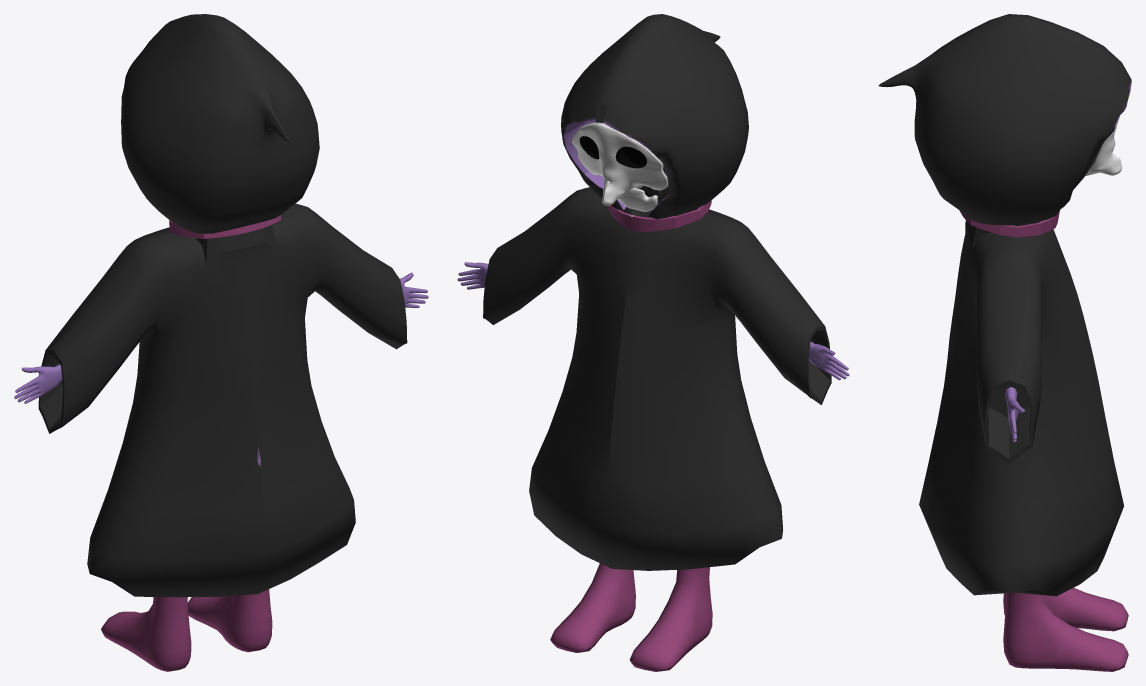
Rendered from BgMD_death.fbx.
3 renders of one model, left to right at view 1: azimuth 30°, elevation 25°; view 2: azimuth 150°, elevation 25°; view 3: azimuth 270°, elevation 25°, orthographic. The views are drawn at different scales.
Visible parts, largest first — view 1: pCube8; view 2: pCube8; view 3: pCube8.
Part boxes in pixels (<box>): pCube8: <box>14,14,428,671</box>; pCube8: <box>457,14,849,671</box>; pCube8: <box>878,14,1131,671</box>.
Bounding box in the file's own units: 88.37 × 130 × 47.39.
